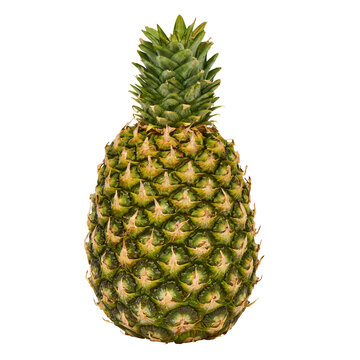Pineapple: (84, 14, 261, 345)
